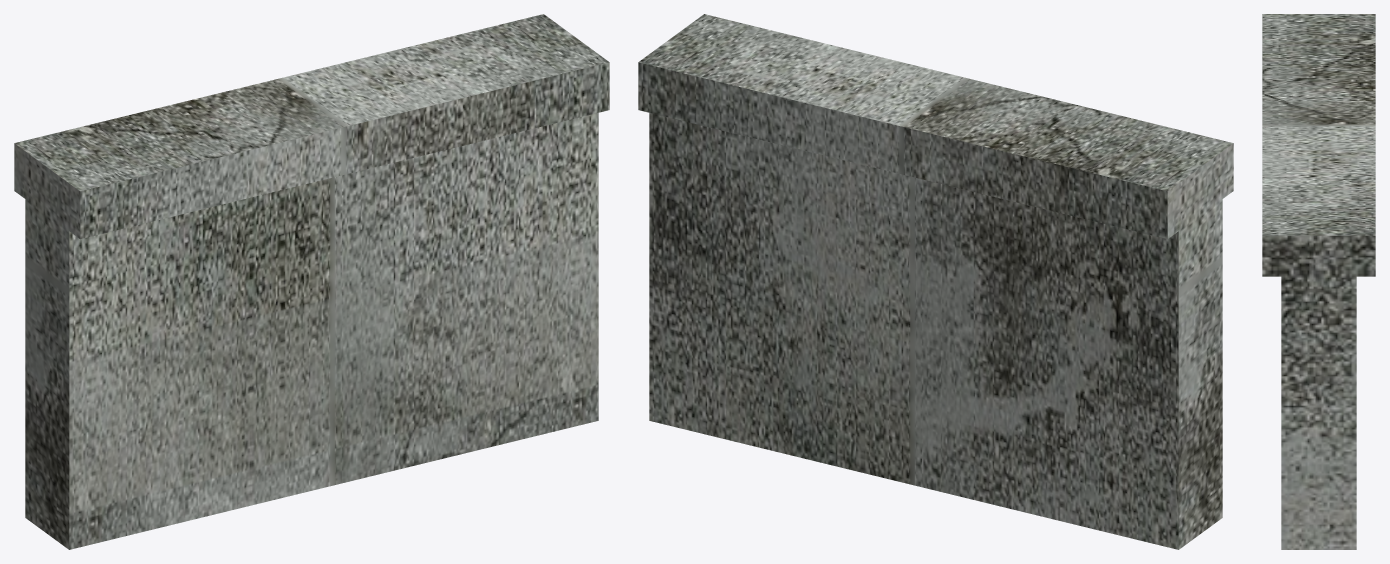
Rendered from wall.glb.
The picture shows the model from 3 angles, left to right: view 1: azimuth 30°, elevation 25°; view 2: azimuth 150°, elevation 25°; view 3: azimuth 270°, elevation 25°; orthographic projection. The views are drawn at different scales.
Visible parts, largest first — view 1: Cube; view 2: Cube; view 3: Cube.
Part boxes in pixels (<box>): Cube: <box>14,14,609,549</box>; Cube: <box>638,14,1233,549</box>; Cube: <box>1262,14,1375,549</box>.
Size of the model in its own units: 3.48 by 2.3 by 0.75.
1 material, 1 textured.
